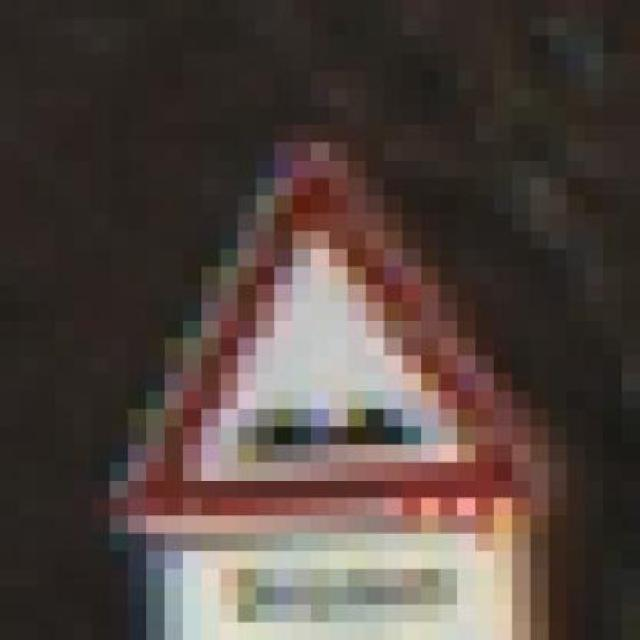Uneven Road: (110, 124, 548, 551)
